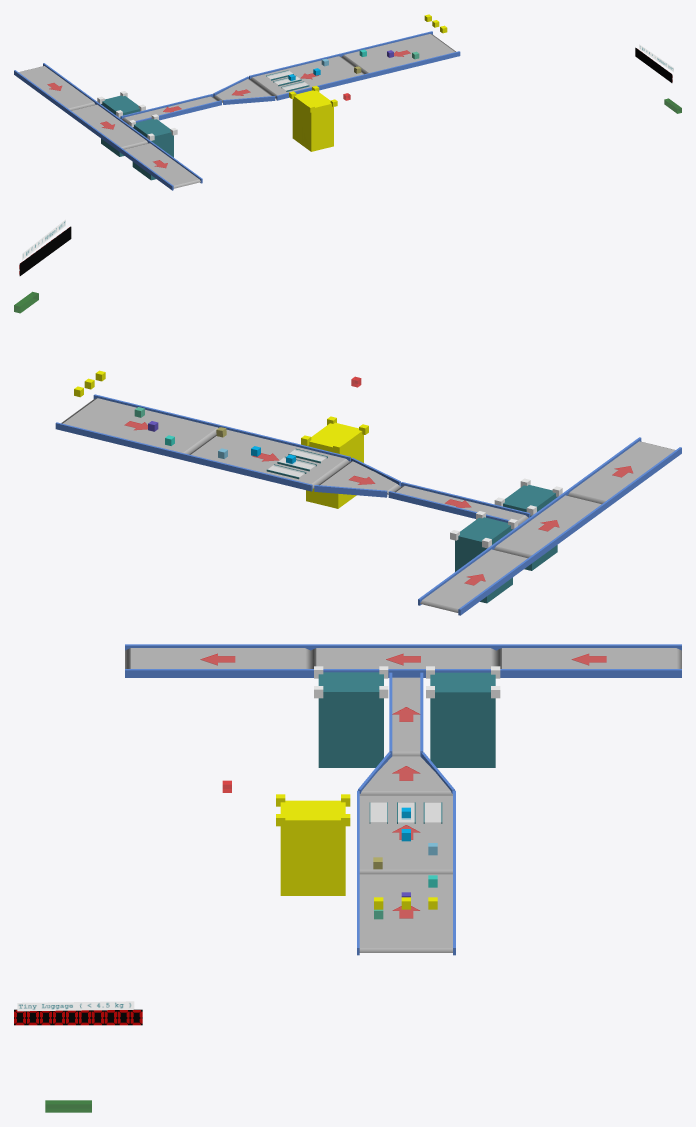
File: Sorter_kasser.dae
3 views of the same model, one above another, from view 1: azimuth 30°, elevation 25°; view 2: azimuth 150°, elevation 25°; view 3: azimuth 270°, elevation 25° (orthographic). The views are drawn at different scales.
Parts seen in each view (by area): view 1: CONVEYOR1, CONVEYOR2, Cube1, CONVEYOR7, CONVEYOR5, CONVEYOR6, CONVEYOR4, Cube3, CONVEYOR3, Cube2, EaterSmall, Loads (+1 smaller); view 2: CONVEYOR1, CONVEYOR2, CONVEYOR6, CONVEYOR5, CONVEYOR7, CONVEYOR4, Cube1, Cube2, CONVEYOR3, Cube3, EaterSmall, Loads (+1 smaller); view 3: CONVEYOR2, CONVEYOR1, Cube1, Cube2, Cube3, CONVEYOR7, CONVEYOR6, CONVEYOR5, CONVEYOR3, CONVEYOR4, EaterSmall, Text1 (+2 smaller).
Part boxes in pixels (x1,y1,x2,y2): CONVEYOR1: (341, 31, 460, 78); CONVEYOR2: (249, 53, 368, 100); Cube1: (289, 86, 337, 151); CONVEYOR7: (119, 140, 202, 190); CONVEYOR5: (66, 101, 149, 151); CONVEYOR6: (14, 63, 96, 112); CONVEYOR4: (120, 94, 221, 124); Cube3: (129, 114, 177, 180); CONVEYOR3: (213, 76, 275, 104); Cube2: (97, 91, 145, 156); EaterSmall: (635, 47, 672, 82); Loads: (288, 49, 419, 81); CONVEYOR1: (55, 394, 222, 459); CONVEYOR2: (183, 425, 350, 491); CONVEYOR6: (418, 545, 534, 615); CONVEYOR5: (492, 491, 608, 561); CONVEYOR7: (566, 437, 681, 507); CONVEYOR4: (388, 482, 530, 525); Cube1: (301, 416, 368, 508); Cube2: (450, 511, 517, 603); CONVEYOR3: (313, 457, 400, 497); Cube3: (494, 478, 562, 570); EaterSmall: (19, 226, 71, 275); Loads: (134, 407, 295, 464); CONVEYOR2: (357, 790, 455, 874); CONVEYOR1: (357, 869, 455, 955); Cube1: (276, 794, 350, 895); Cube2: (426, 666, 500, 767); Cube3: (314, 666, 388, 767); CONVEYOR7: (125, 644, 310, 677); CONVEYOR6: (496, 644, 681, 677); CONVEYOR5: (310, 644, 496, 677); CONVEYOR3: (358, 752, 454, 795); CONVEYOR4: (389, 672, 423, 756); EaterSmall: (14, 1009, 142, 1025); Text1: (17, 1001, 134, 1011).
Size of the model in its own units: 10.63 by 7.18 by 1.43.
18 materials, 1 textured.
